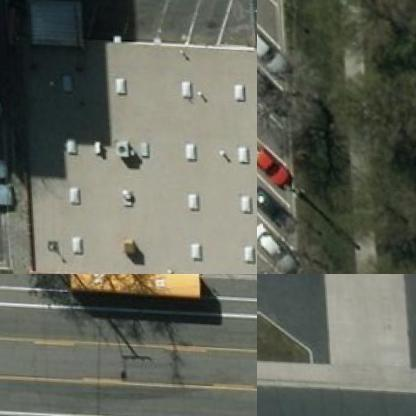car: (257, 180, 304, 228), (257, 140, 304, 188), (257, 226, 304, 273), (257, 62, 297, 109), (257, 21, 292, 69)
